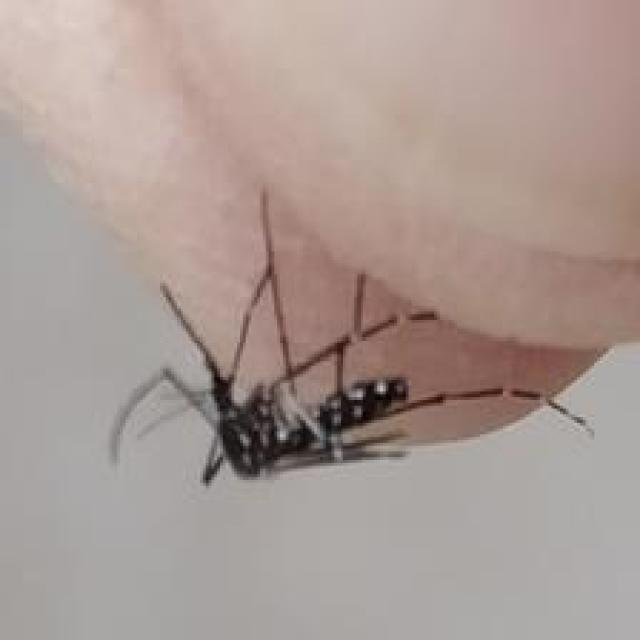Aedes albopictus: (106, 184, 608, 487)
